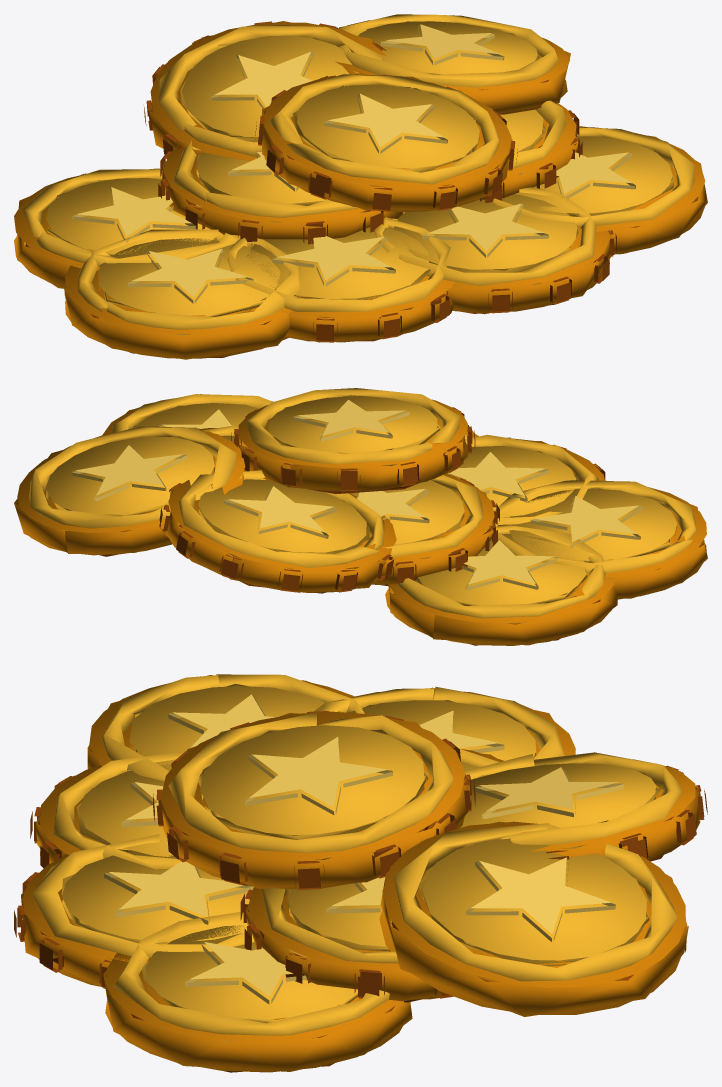
Rendered from itm-meso.glb.
The picture shows the model from 3 angles, top to bottom: view 1: azimuth 30°, elevation 25°; view 2: azimuth 150°, elevation 25°; view 3: azimuth 270°, elevation 25°; orthographic projection. The views are drawn at different scales.
Visible parts, largest first — view 1: itm-meso; view 2: itm-meso; view 3: itm-meso.
Part boxes in pixels (bbox=[...]): itm-meso: bbox=[14, 14, 707, 359]; itm-meso: bbox=[14, 388, 707, 645]; itm-meso: bbox=[14, 674, 707, 1072].
Size of the model in its own units: 0.2621 by 0.0509 by 0.2092.
